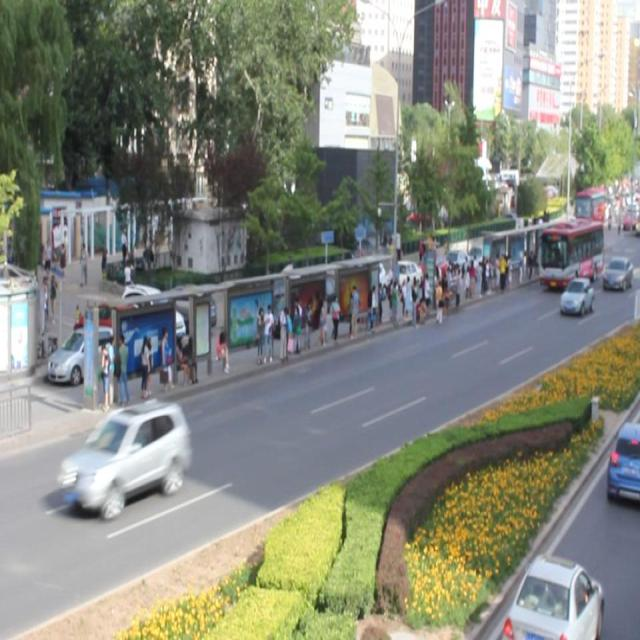car: (65, 400, 186, 515), (558, 276, 594, 314)
van: (538, 218, 602, 287)
